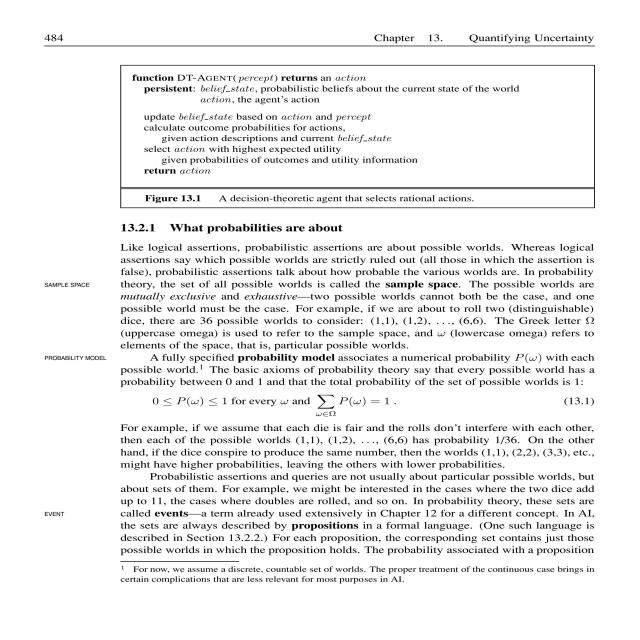diagram: (100, 59, 615, 209)
